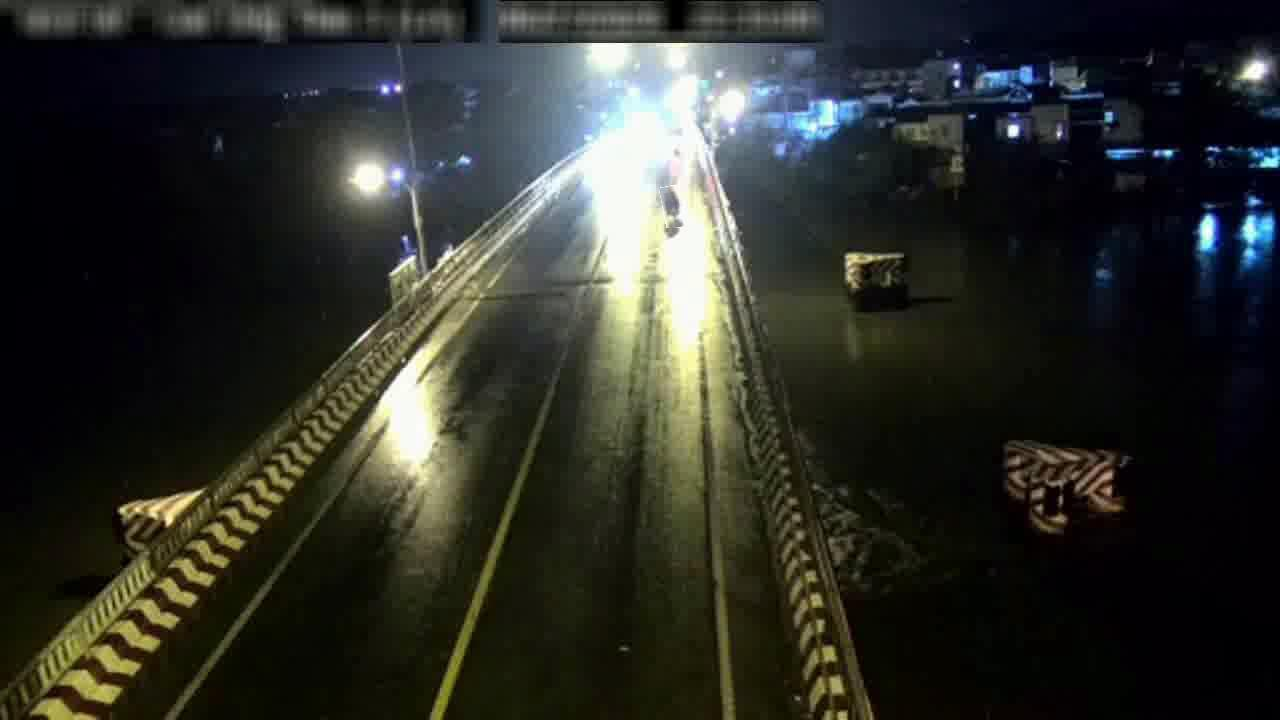motorbike: (661, 186, 684, 229)
